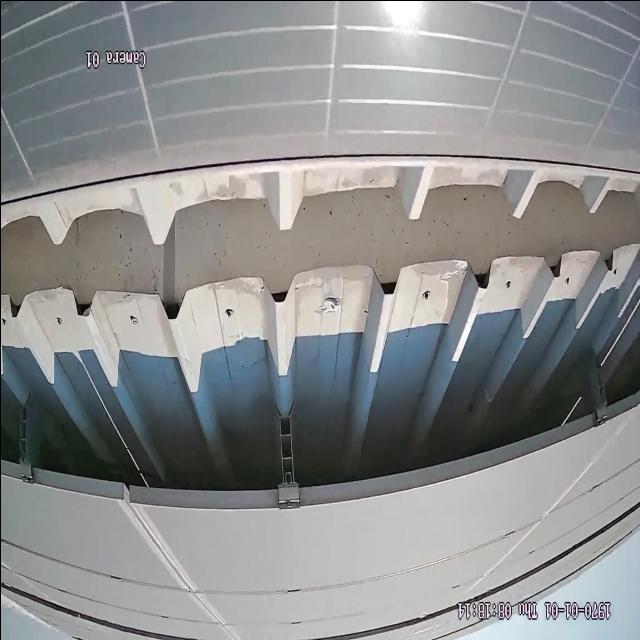interior panel: (114, 505, 236, 636)
outher panel: (0, 159, 640, 516)
